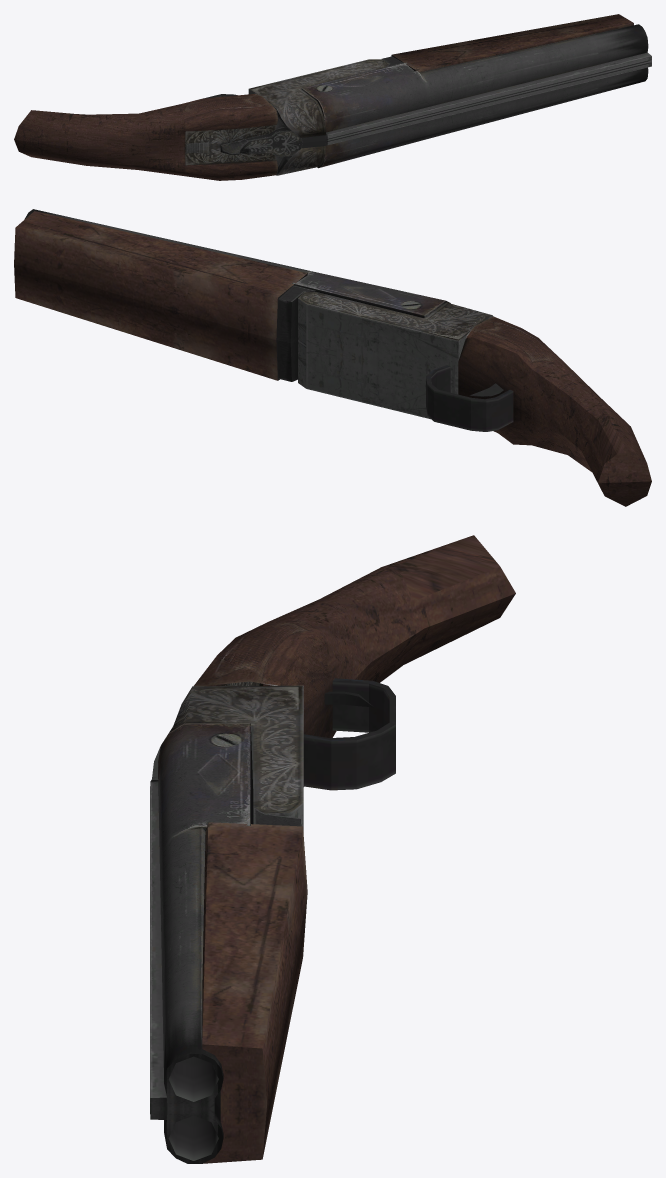
The model's file is weapon_sawed_off_double_barrel_LOD0.obj.
The picture shows the model from 3 angles, top to bottom: view 1: azimuth 30°, elevation 25°; view 2: azimuth 150°, elevation 25°; view 3: azimuth 270°, elevation 25°; orthographic projection. The views are drawn at different scales.
Visible parts, largest first — view 1: mtl_weapon_sawed_off_double_barrel; view 2: mtl_weapon_sawed_off_double_barrel; view 3: mtl_weapon_sawed_off_double_barrel.
Part boxes in pixels (<box>): mtl_weapon_sawed_off_double_barrel: <box>14,14,651,180</box>; mtl_weapon_sawed_off_double_barrel: <box>14,209,651,506</box>; mtl_weapon_sawed_off_double_barrel: <box>150,535,515,1163</box>.
Size of the model in its own units: 57.6 by 7.36 by 16.35.
1 material, 1 textured.
